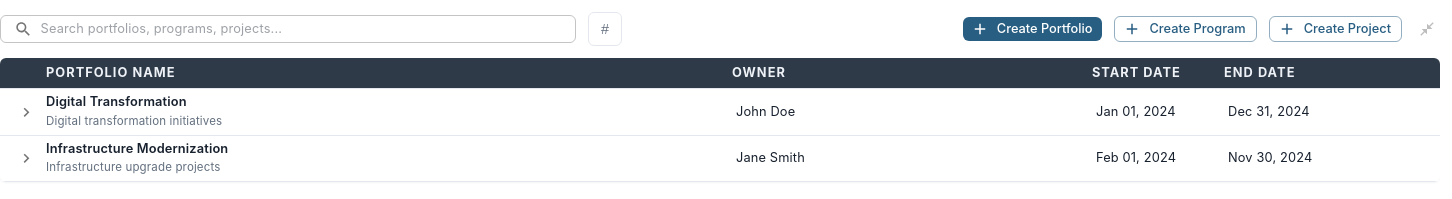
Scenario: PortfoliosListPage › the clear (x) control instantly erases the search text
Expected: the text "Digital Transformation" is shown, left=46, top=94, right=187, bottom=109
Type "Digital" into the field with placeholder "Search portfolios, programs, projects..." at (308, 29), box left=41, top=15, right=576, bottom=43
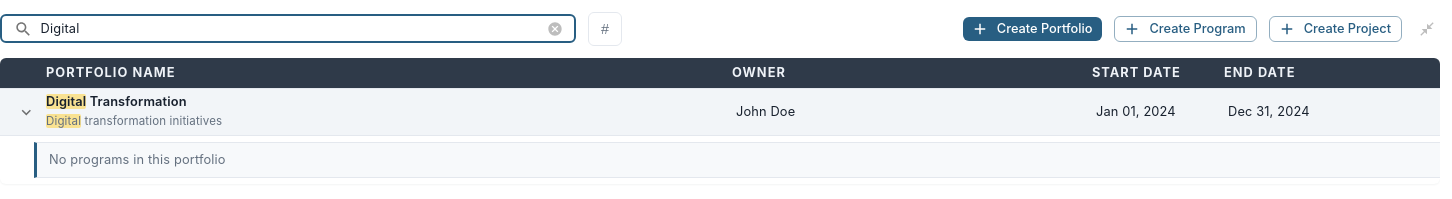
Click the button named "clear filter" at (555, 29), box left=545, top=19, right=565, bottom=39
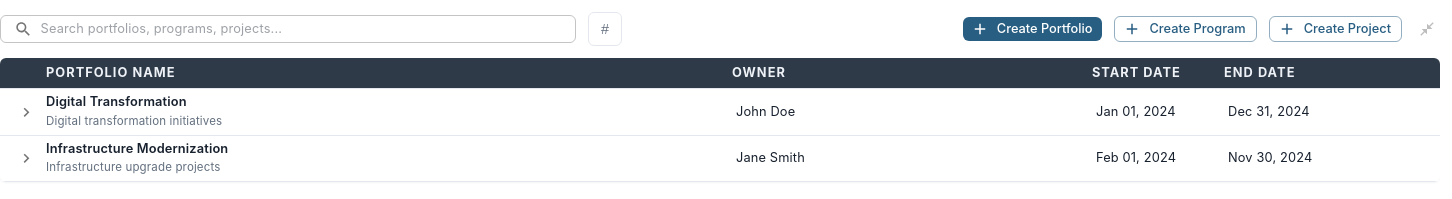
Expected: the field with placeholder "Search portfolios, programs, projects..." is empty, left=41, top=15, right=576, bottom=43
